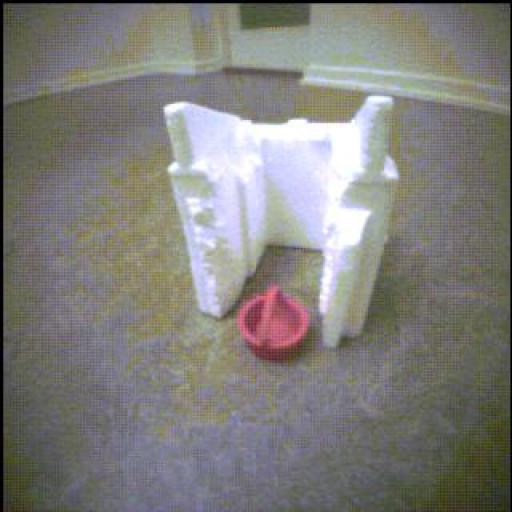Bucket: (238, 286, 310, 361)
